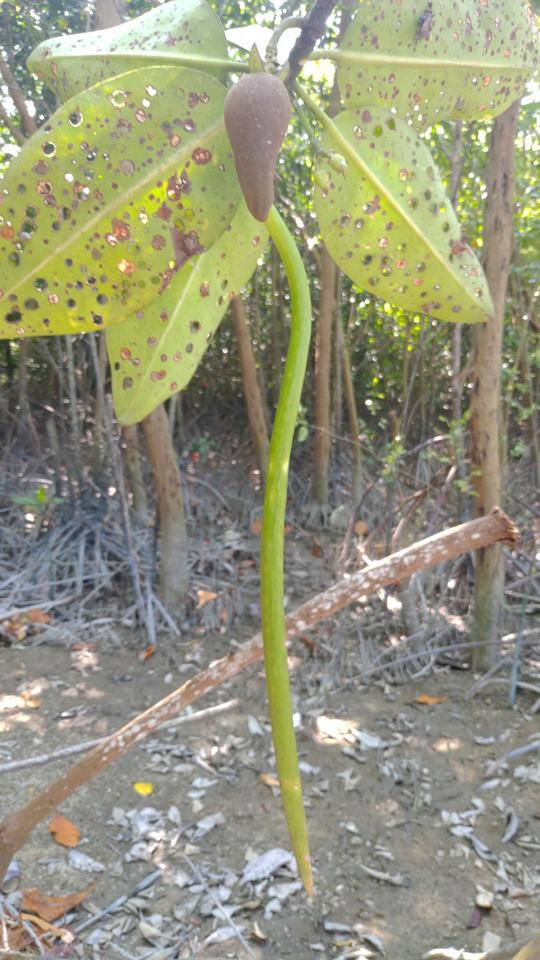mentah: (212, 40, 341, 914)
